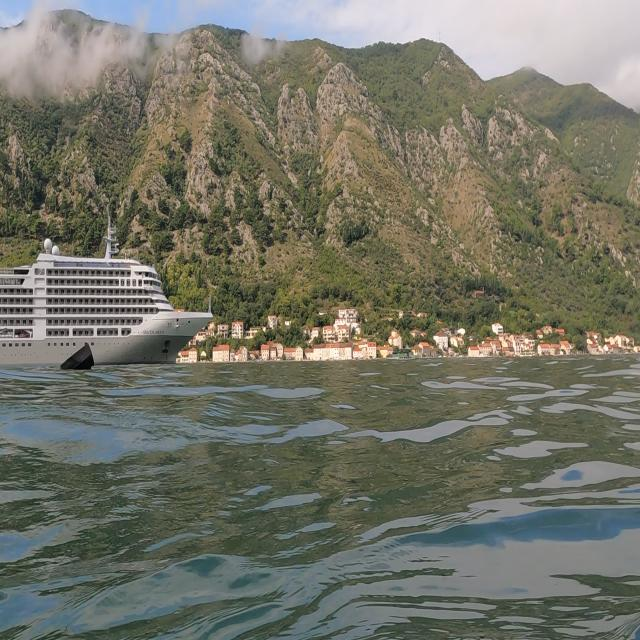boat: (1, 205, 215, 372)
